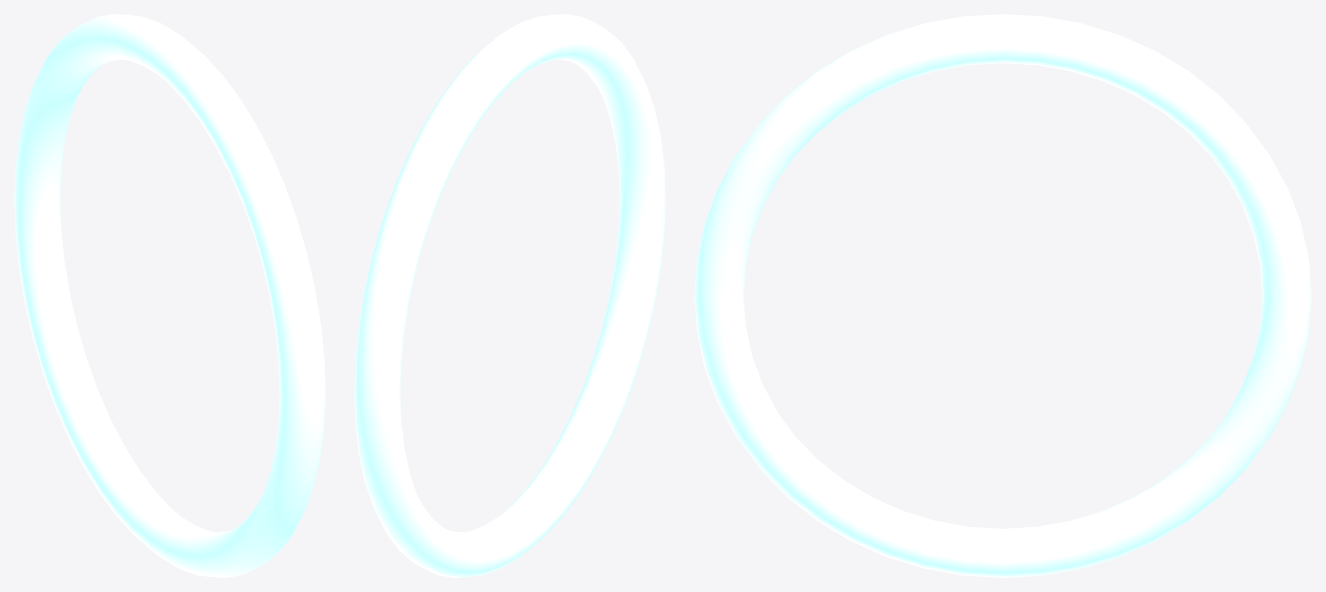
File: GEO_ChargePort_Illuminated_Halo.glb
3 views of the same model, side by side, from view 1: azimuth 30°, elevation 25°; view 2: azimuth 150°, elevation 25°; view 3: azimuth 270°, elevation 25° (orthographic). The views are drawn at different scales.
Parts seen in each view (by area): view 1: GEO_ChargePort_Illuminated_Halo; view 2: GEO_ChargePort_Illuminated_Halo; view 3: GEO_ChargePort_Illuminated_Halo.
Part boxes in pixels (x1,y1,x2,y2): GEO_ChargePort_Illuminated_Halo: (14,14,325,577); GEO_ChargePort_Illuminated_Halo: (354,14,665,577); GEO_ChargePort_Illuminated_Halo: (694,14,1311,577).
Size of the model in its own units: 0.008 by 0.1 by 0.1.
